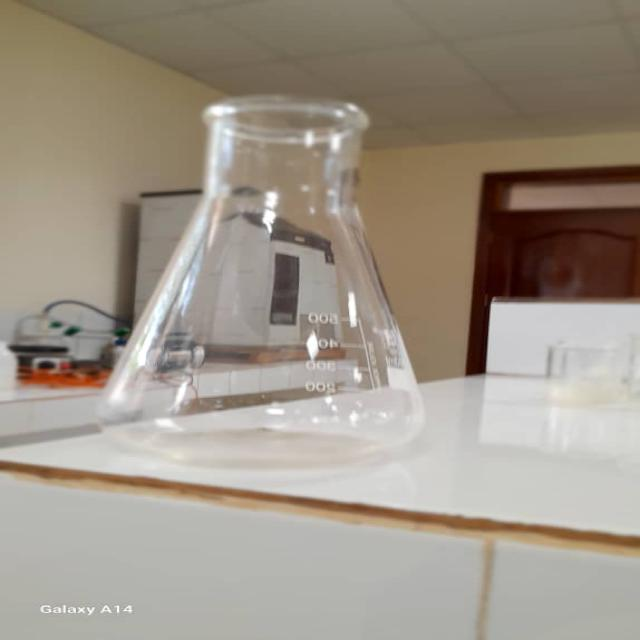Conical Flask: (93, 86, 421, 470)
